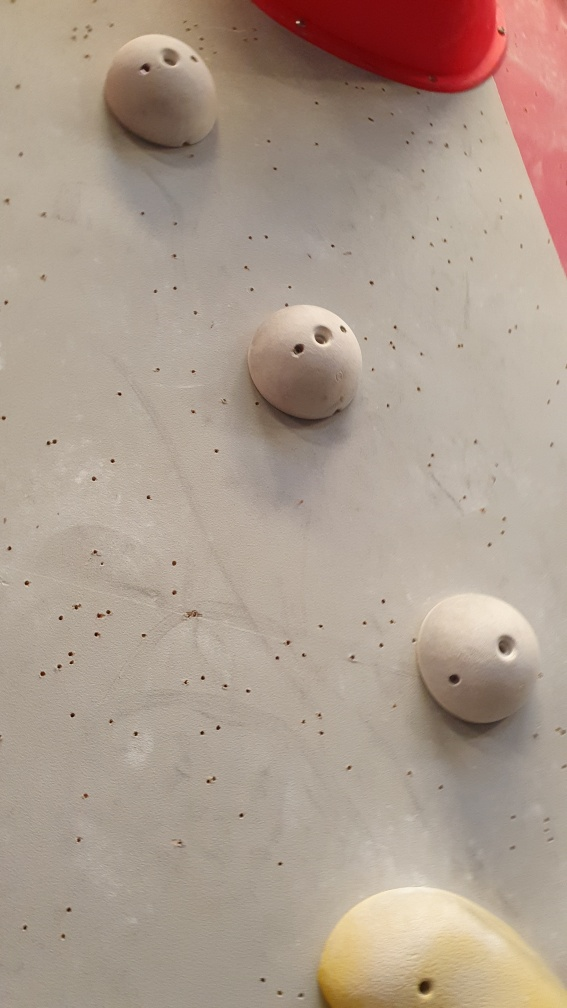Sloper: (419, 592, 544, 730), (248, 303, 366, 428), (107, 29, 224, 147)
